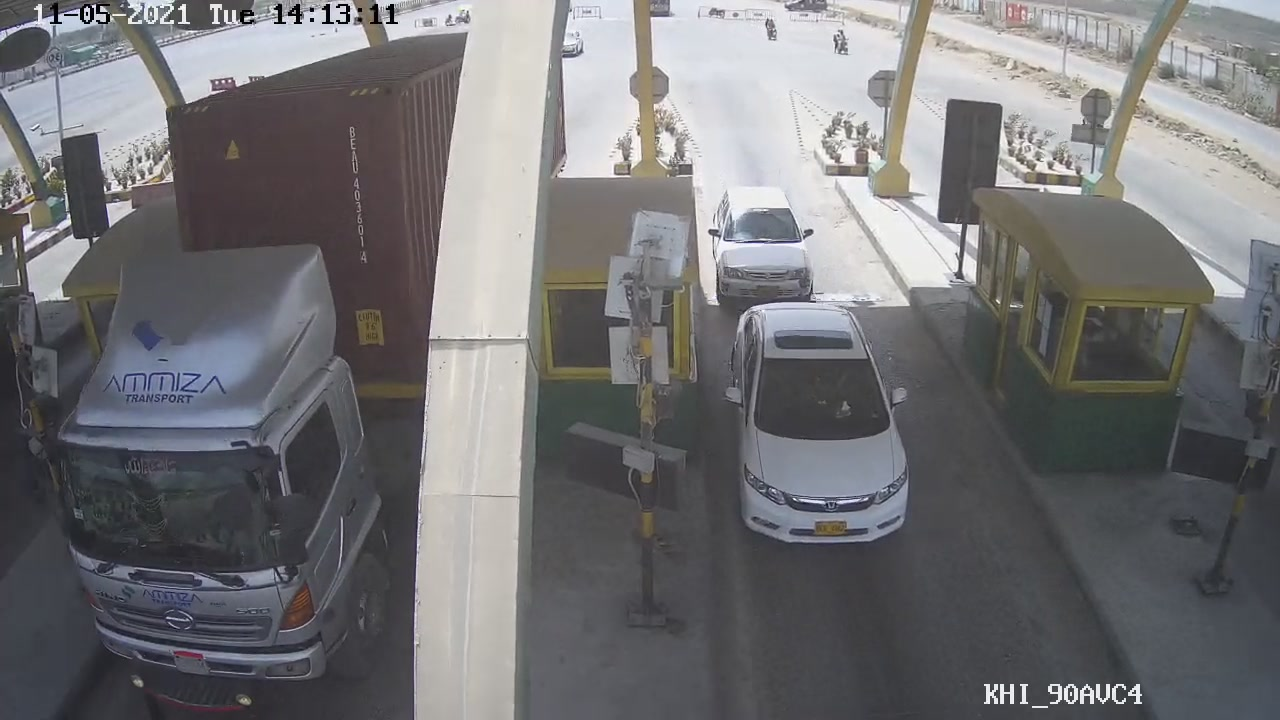F1: (716, 292, 919, 549)
